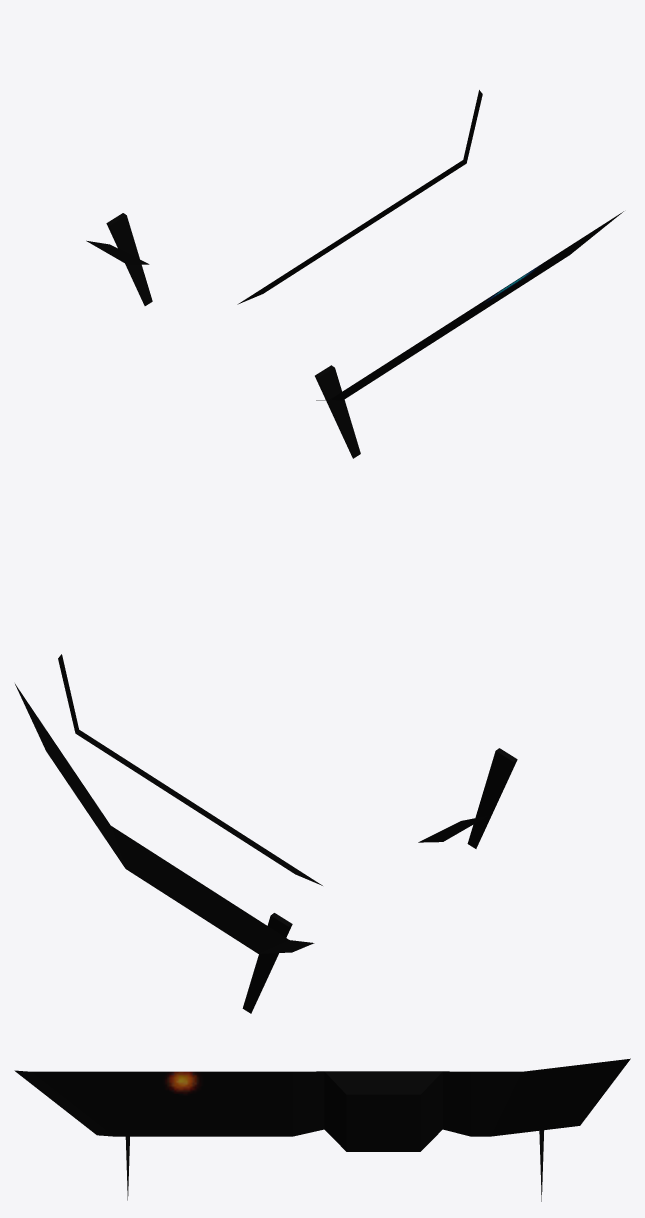
File: hangar_hgn_battlecruiser_01_basic_01_left.glb
The picture shows the model from 3 angles, top to bottom: view 1: azimuth 30°, elevation 25°; view 2: azimuth 150°, elevation 25°; view 3: azimuth 270°, elevation 25°; orthographic projection. The views are drawn at different scales.
Visible parts, largest first — view 1: hgn_t1_flagship_battlecruiser_hangar_s_l_01; view 2: hgn_t1_flagship_battlecruiser_hangar_s_l_01; view 3: hgn_t1_flagship_battlecruiser_hangar_s_l_01.
Boxes of the visible parts, x1,y1,x2,y2 form: hgn_t1_flagship_battlecruiser_hangar_s_l_01: (86, 90, 623, 458); hgn_t1_flagship_battlecruiser_hangar_s_l_01: (15, 654, 517, 1013); hgn_t1_flagship_battlecruiser_hangar_s_l_01: (14, 1058, 630, 1201).
Bounding box in the file's own units: 0.7179 × 0.4998 × 1.15.
Materials: 1 (1 with a texture image).
